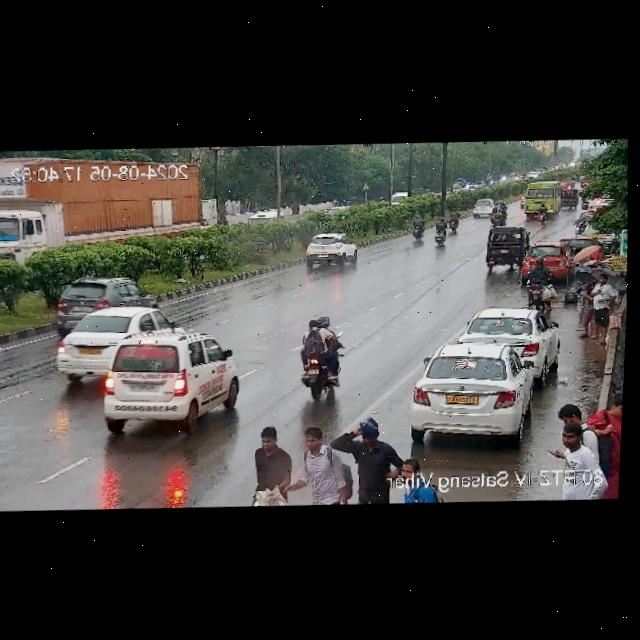bus: (519, 179, 559, 217)
car: (92, 327, 242, 436), (403, 340, 536, 441), (55, 299, 174, 376), (462, 304, 557, 370), (51, 273, 158, 326), (480, 225, 530, 274), (301, 232, 362, 268), (470, 197, 496, 218)
motorcycle: (293, 313, 349, 400), (528, 256, 555, 307), (411, 210, 427, 242), (435, 216, 449, 249), (442, 211, 461, 233), (490, 201, 505, 223), (538, 201, 547, 223)
person: (542, 415, 609, 501), (243, 426, 294, 506), (343, 422, 390, 503), (298, 426, 345, 505), (544, 397, 597, 459), (594, 392, 623, 497), (588, 271, 616, 344), (577, 273, 596, 338), (575, 252, 590, 281), (590, 241, 606, 259)
truck: (0, 154, 202, 257)
